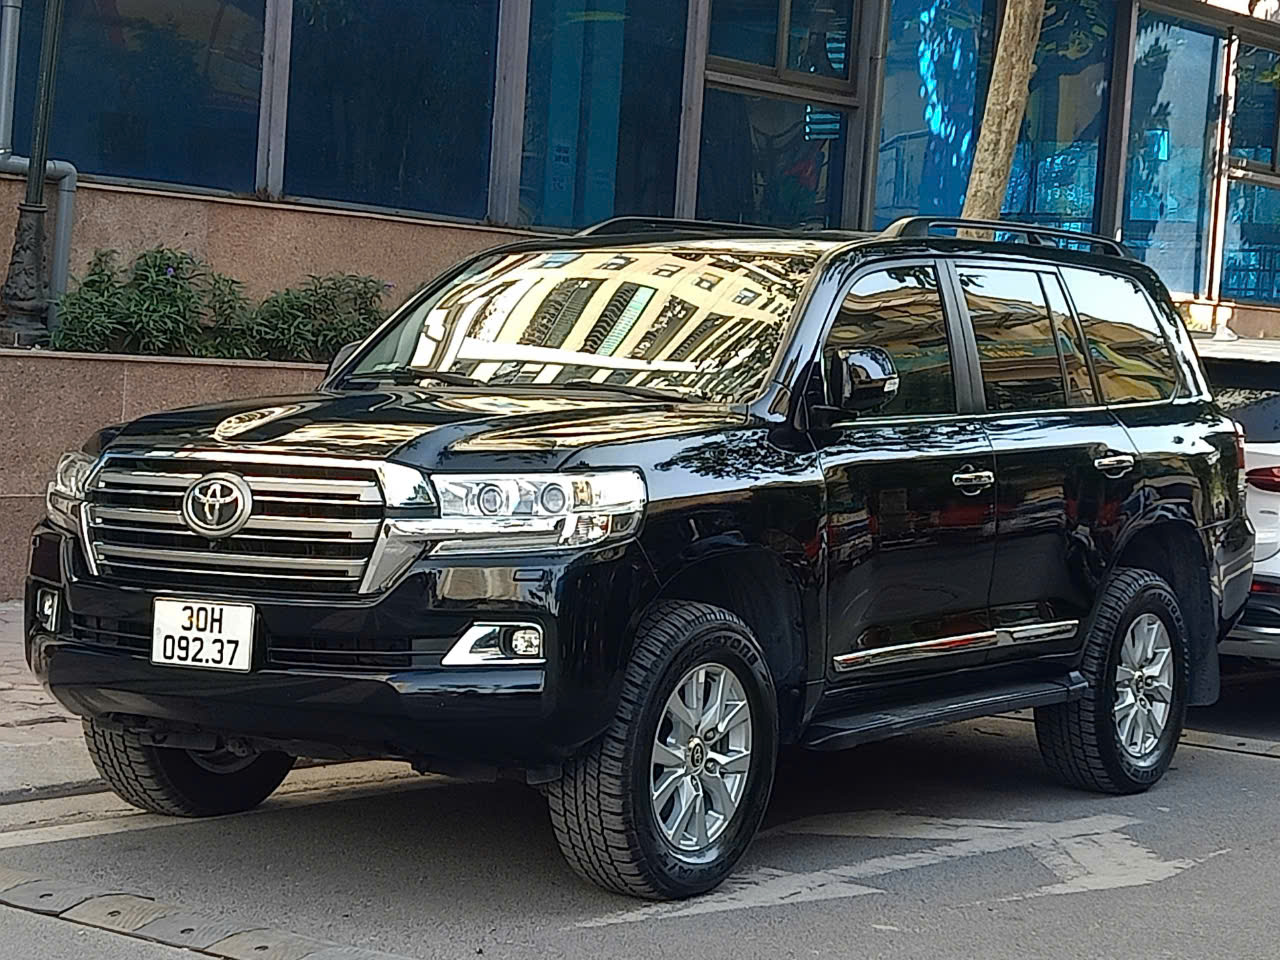bien_so: (152, 598, 253, 673)
